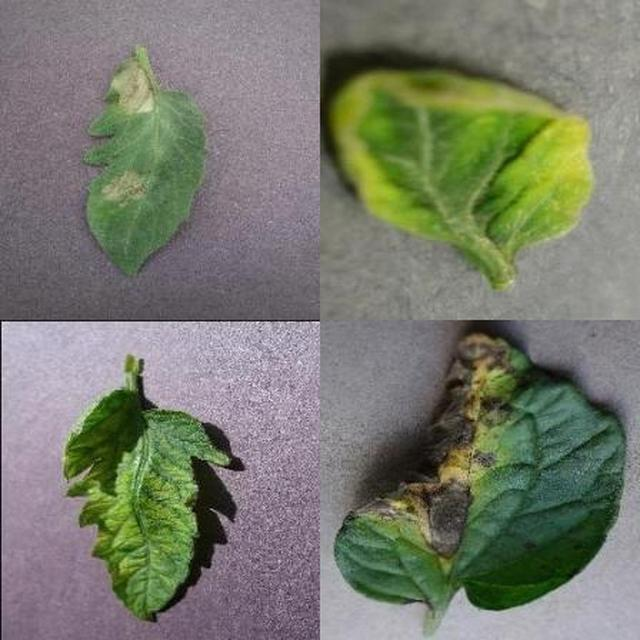Late Blight Leaf: (178, 223, 640, 640)
